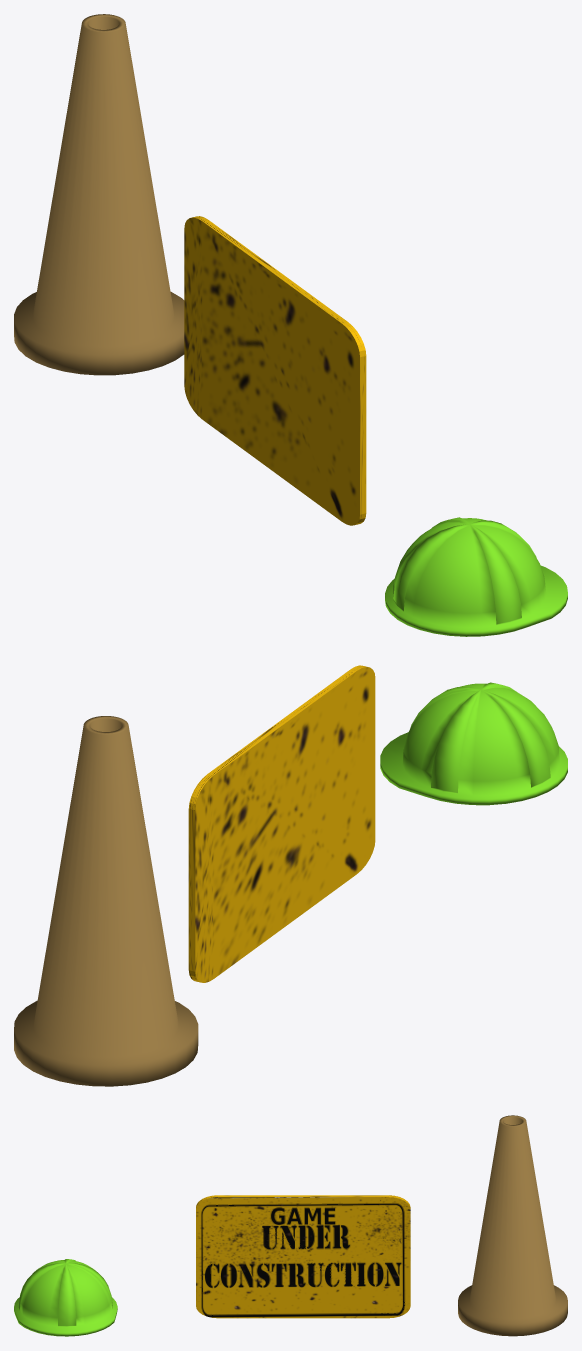
File: ConstructionObjects.fbx
3 renders of one model, top to bottom at view 1: azimuth 30°, elevation 25°; view 2: azimuth 150°, elevation 25°; view 3: azimuth 270°, elevation 25°, orthographic. The views are drawn at different scales.
Parts seen in each view (by area): view 1: Cylinder, Cube, Sphere; view 2: Cylinder, Cube, Sphere; view 3: Cube, Cylinder, Sphere.
Boxes of the visible parts, x1,y1,x2,y2 form: Cylinder: (14, 14, 184, 375); Cube: (184, 216, 366, 525); Sphere: (385, 517, 567, 636); Cylinder: (14, 716, 198, 1086); Cube: (188, 665, 375, 982); Sphere: (380, 682, 567, 805); Cube: (196, 1195, 410, 1318); Cylinder: (458, 1115, 567, 1336); Sphere: (14, 1259, 117, 1336).
Size of the model in its own units: 247 by 460 by 1176.
